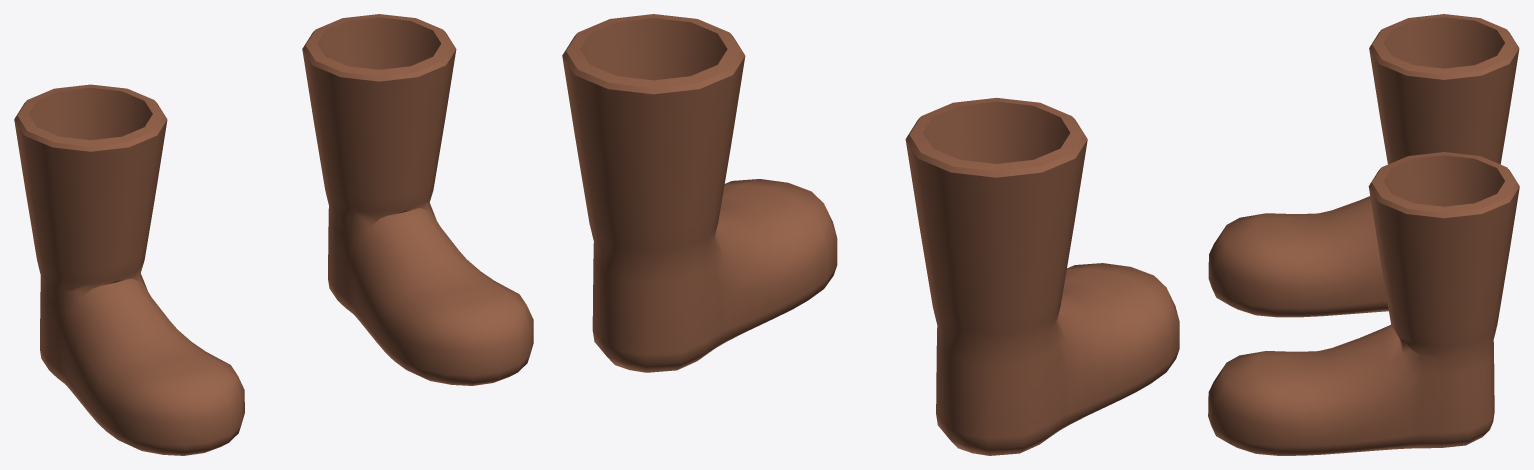
The model's file is Boots_01_mesh.fbx.
3 renders of one model, left to right at view 1: azimuth 30°, elevation 25°; view 2: azimuth 150°, elevation 25°; view 3: azimuth 270°, elevation 25°, orthographic. The views are drawn at different scales.
Visible parts, largest first — view 1: Boots_01_mesh; view 2: Boots_01_mesh; view 3: Boots_01_mesh.
Part boxes in pixels (box(x1,y1,x2,y2)): Boots_01_mesh: box(14, 14, 533, 455); Boots_01_mesh: box(562, 14, 1179, 455); Boots_01_mesh: box(1208, 14, 1519, 455).
Bounding box in the file's own units: 21.18 × 12.33 × 13.83.
